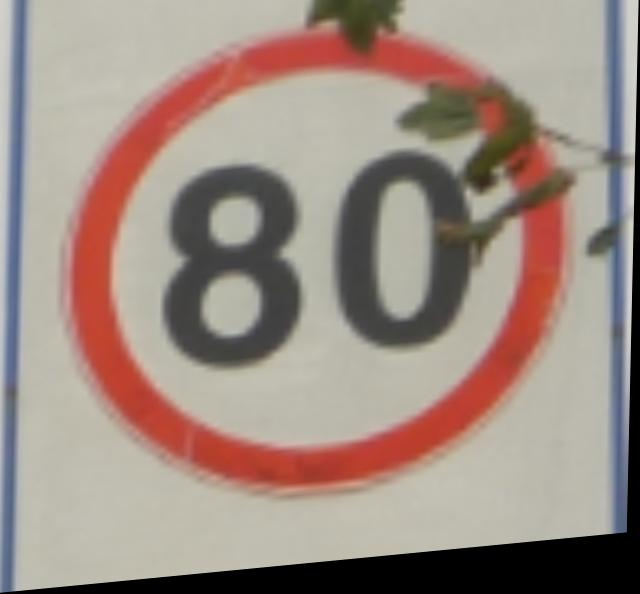limit80: (50, 0, 596, 527)
